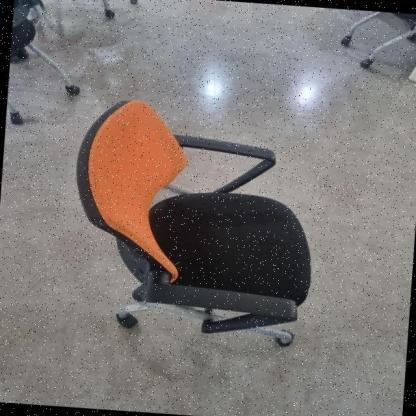Chair: (31, 82, 401, 376)
